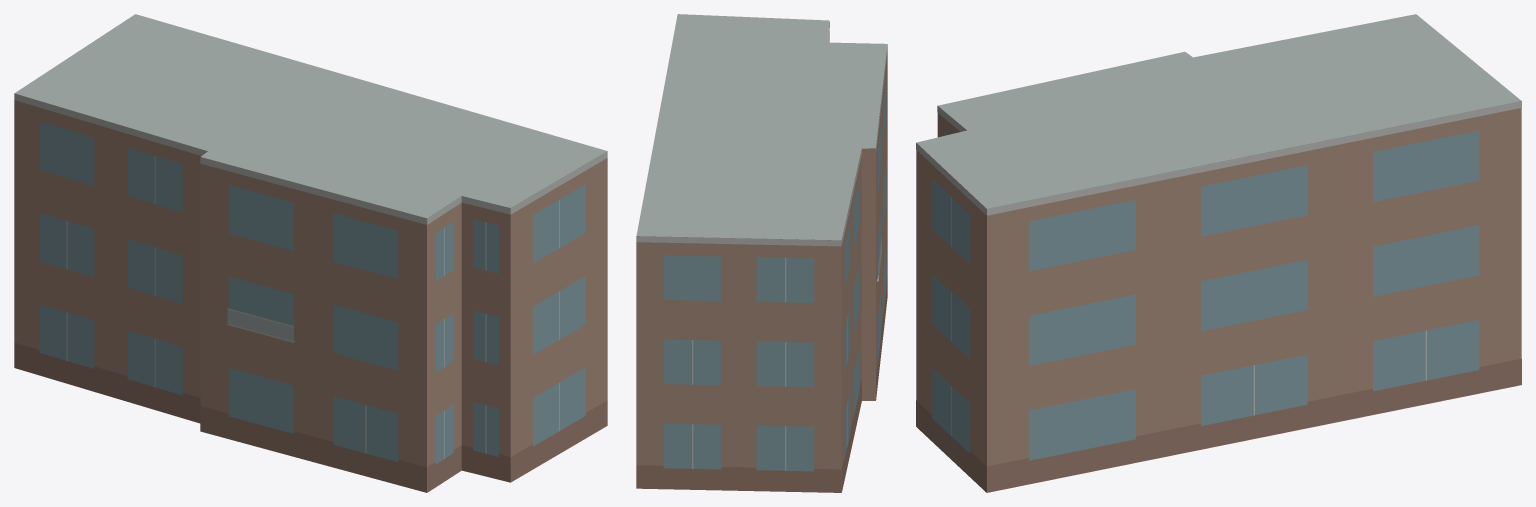
File: survey-upis-32737522.glb
3 views of the same model, side by side, from view 1: azimuth 30°, elevation 25°; view 2: azimuth 150°, elevation 25°; view 3: azimuth 270°, elevation 25° (orthographic). The views are drawn at different scales.
Visible parts, largest first — view 1: survey-upis-32737522.tmp; view 2: survey-upis-32737522.tmp; view 3: survey-upis-32737522.tmp.
Part boxes in pixels (bbox=[...]): survey-upis-32737522.tmp: bbox=[14, 14, 607, 492]; survey-upis-32737522.tmp: bbox=[636, 14, 887, 492]; survey-upis-32737522.tmp: bbox=[916, 14, 1521, 492].
Size of the model in its own units: 14.87 by 10.1 by 19.52.
